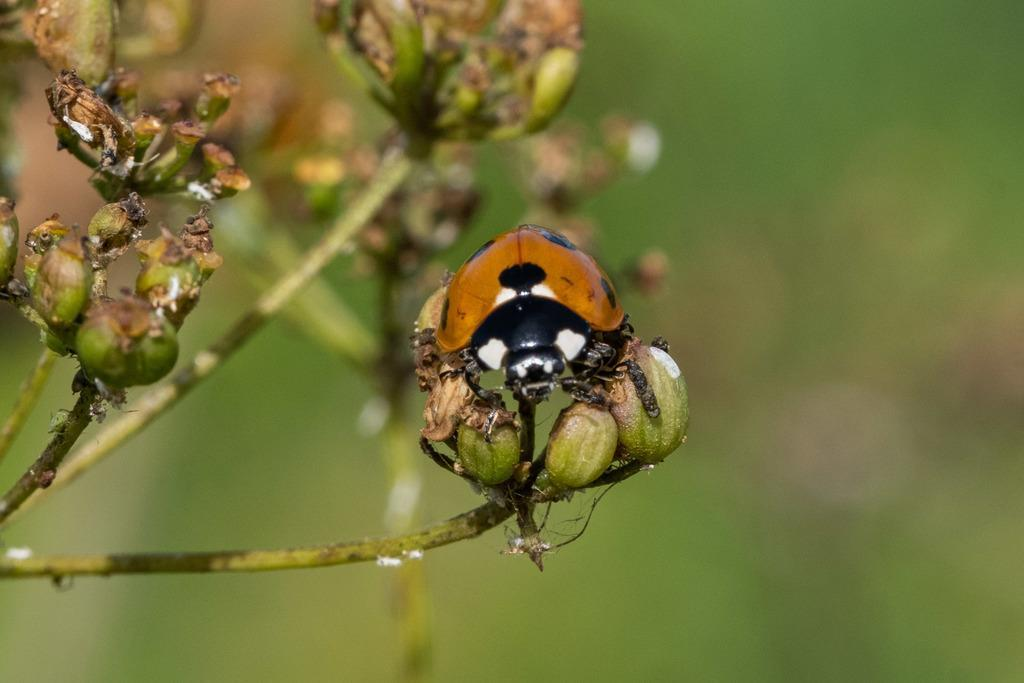ladybug: (431, 223, 637, 443)
